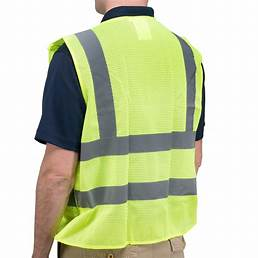Reflective vest: (47, 14, 202, 250)
